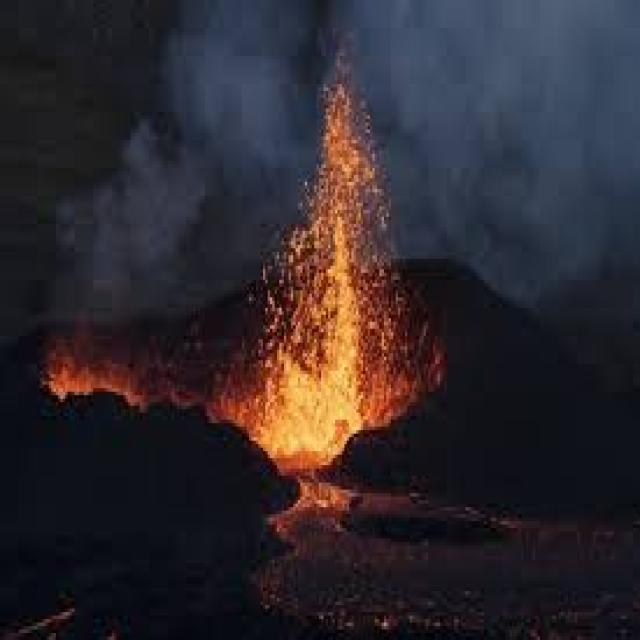explosion: (166, 67, 482, 502)
